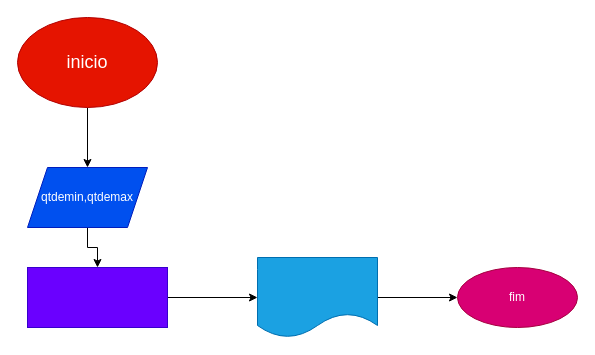
Image size: 595x355. Some labels were removed from this diagram. The shapes that lost their labels are listed below. From the top down, each one's box as (x1, y1, x2, y2) in pixels, then its label:
(26, 266, 168, 328): estmedio <- (estoqmin+estoqmax)/2
(256, 256, 378, 338): estmedio
